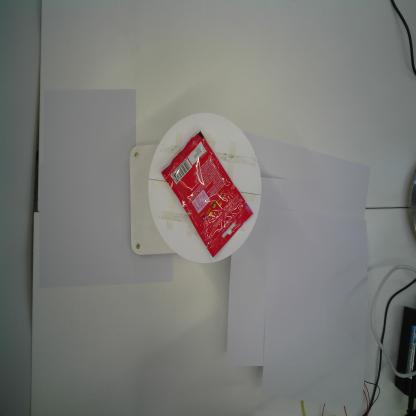Candy: (160, 130, 255, 259)
